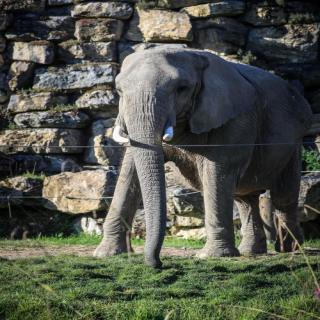Elephant: (86, 36, 320, 270)
